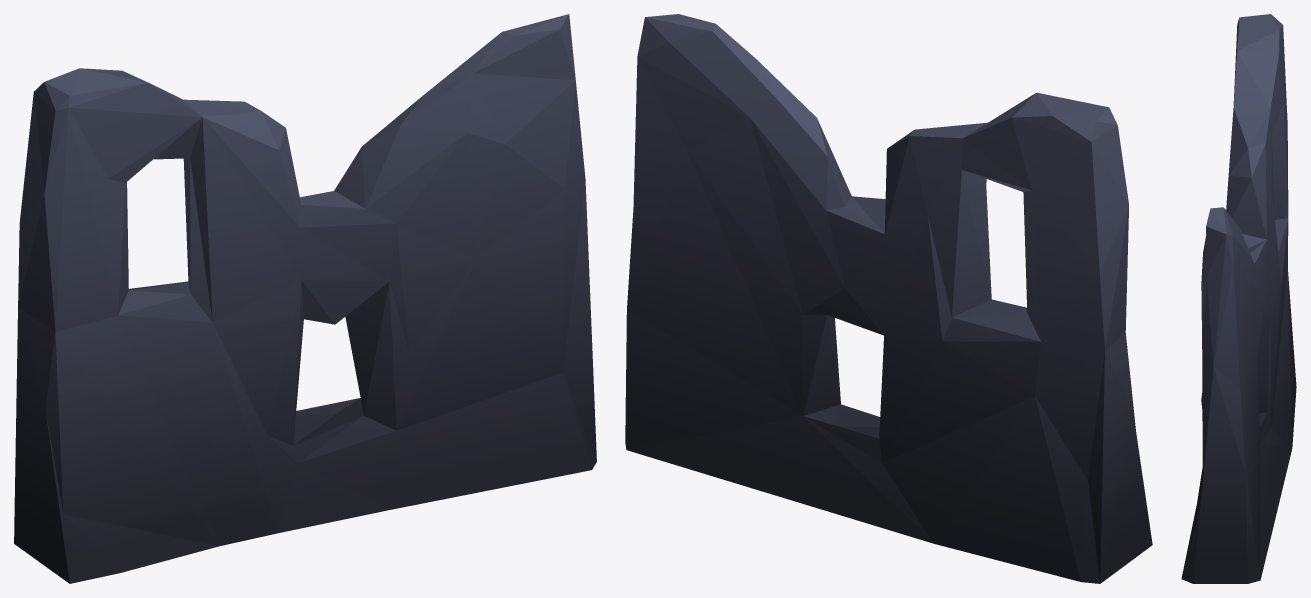
Rendered from SM_Ruined_Walls_3.fbx.
3 views of the same model, side by side, from view 1: azimuth 30°, elevation 25°; view 2: azimuth 150°, elevation 25°; view 3: azimuth 270°, elevation 25° (orthographic). The views are drawn at different scales.
Parts seen in each view (by area): view 1: Ruined_Walls_3; view 2: Ruined_Walls_3; view 3: Ruined_Walls_3.
Part boxes in pixels (left/top/right/bottom): Ruined_Walls_3: left=14, top=14, right=596, bottom=583; Ruined_Walls_3: left=625, top=14, right=1152, bottom=583; Ruined_Walls_3: left=1181, top=14, right=1296, bottom=583.
Size of the model in its own units: 313 by 267 by 74.54.
1 material, 1 textured.
